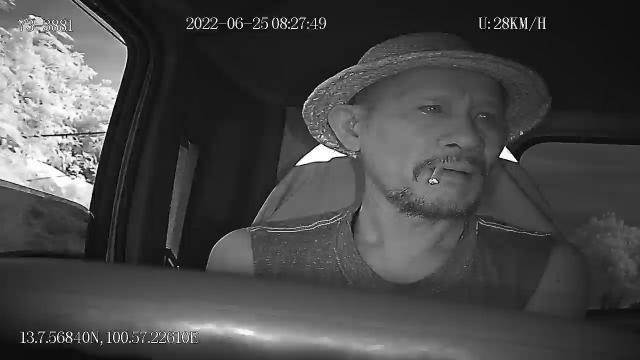SafeDriving: (411, 95, 451, 119), (468, 102, 501, 127)
Smoking: (426, 160, 446, 186)
